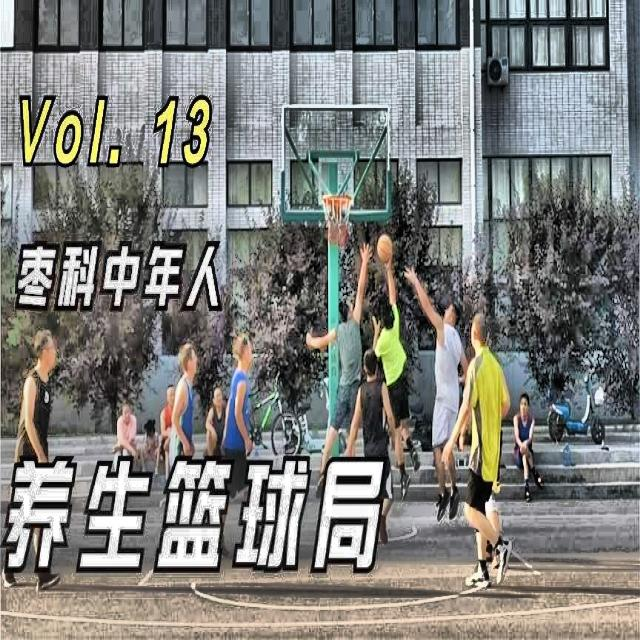board: (377, 234, 393, 260)
